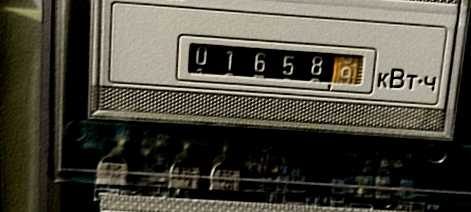0: (194, 45, 208, 67)
1: (224, 49, 235, 72)
5: (280, 53, 296, 77)
6: (252, 51, 267, 73)
8: (308, 54, 324, 77)
9: (336, 64, 351, 86)
screen: (169, 28, 384, 100)
